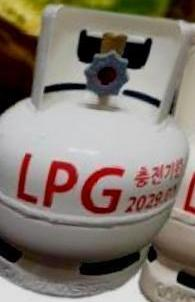cylinder: (0, 1, 195, 302)
